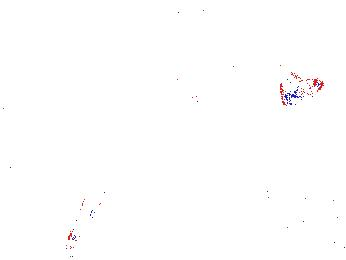X-ray fish: (170, 61, 203, 102)
glassfish: (179, 132, 279, 200), (67, 161, 121, 251)
red belly glassfish: (279, 77, 324, 98)
redtail glassfish: (139, 3, 210, 32)
